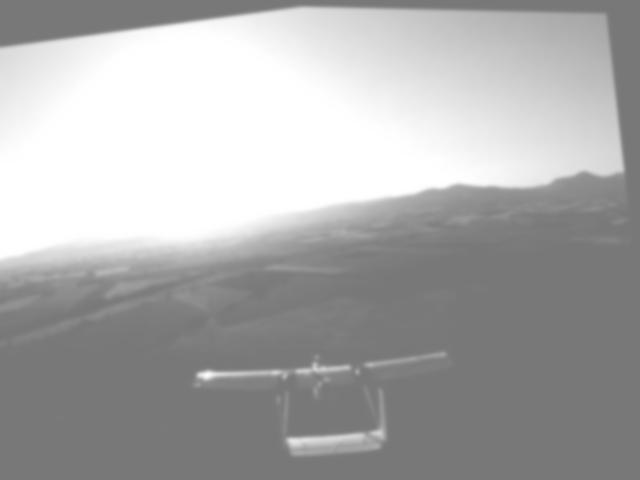hedef: (181, 314, 484, 480)
